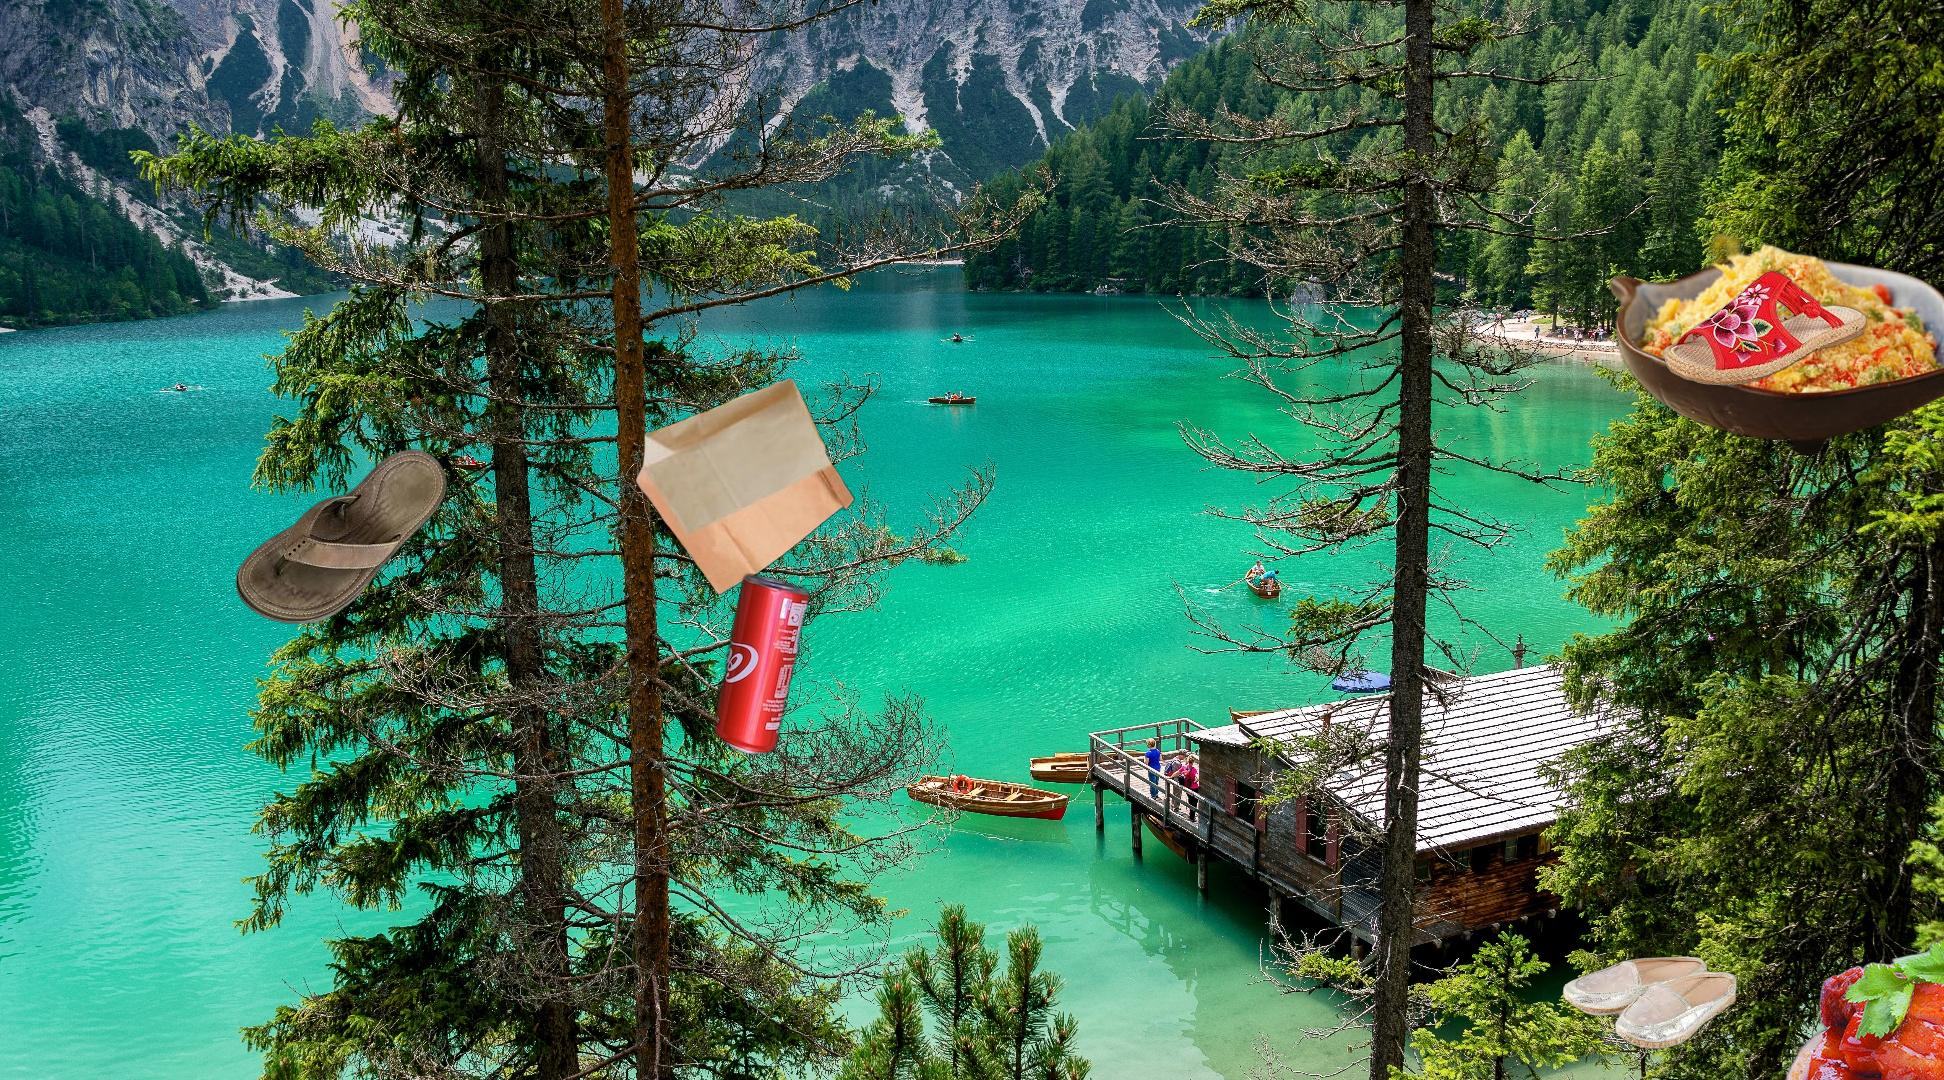biological: (1604, 225, 1944, 459), (1775, 873, 1944, 1080)
metal-cans: (707, 568, 814, 759)
paper: (1882, 310, 1944, 591)
paper-bag: (633, 376, 856, 596)
shoes: (233, 446, 449, 626), (1659, 267, 1870, 388), (1560, 954, 1739, 1052)
